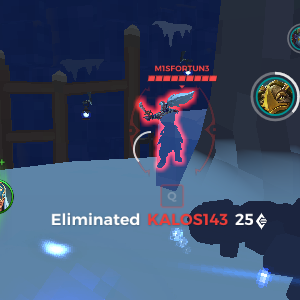model: (144, 91, 192, 178)
